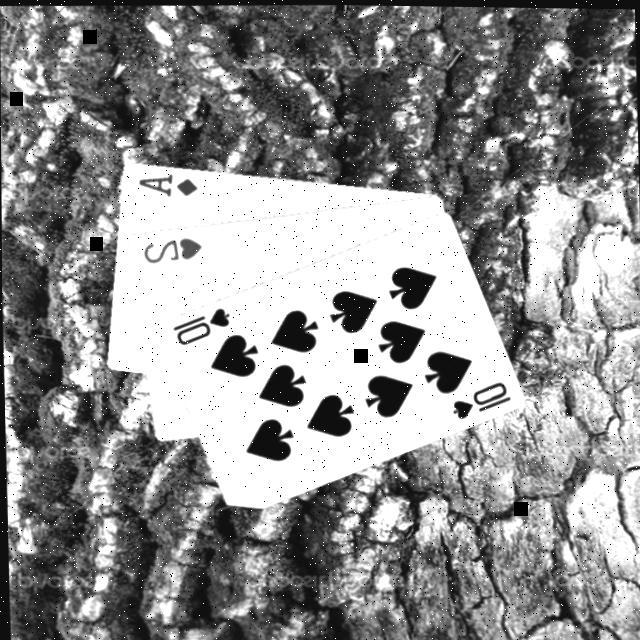10S: (445, 377, 512, 423), (166, 304, 232, 350)
2H: (136, 234, 204, 268)
AD: (133, 169, 198, 201)
